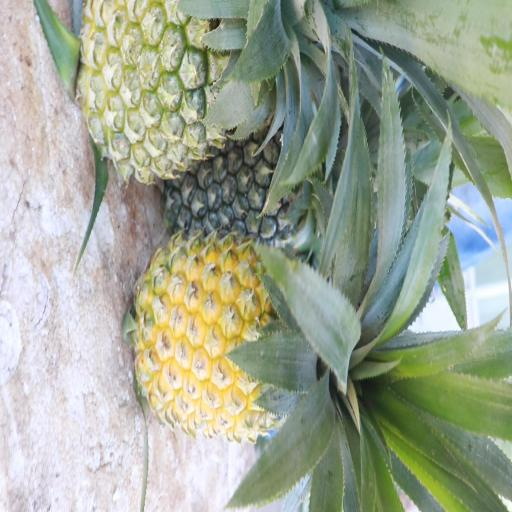------------------------------: (83, 0, 292, 175)
Pineapple - v8 v1: (136, 238, 384, 438)
